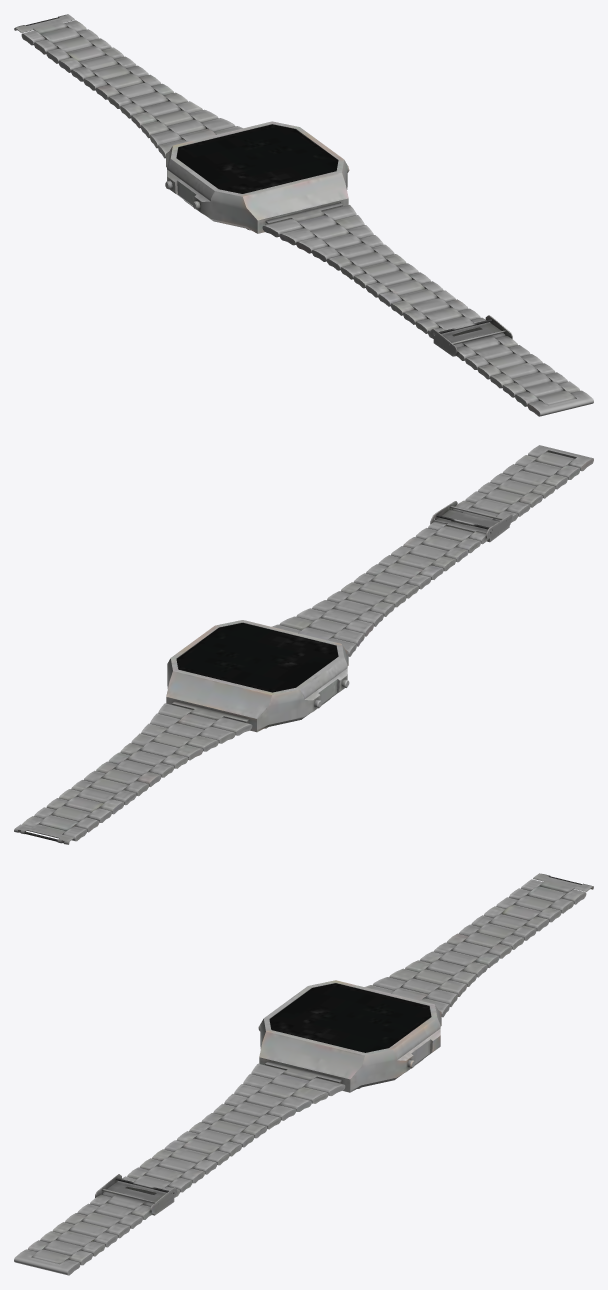
The model's file is digital_wrist_watch.glb.
The picture shows the model from 3 angles, top to bottom: view 1: azimuth 30°, elevation 25°; view 2: azimuth 150°, elevation 25°; view 3: azimuth 330°, elevation 25°; orthographic projection.
Parts seen in each view (by area): view 1: digital_wrist_watch; view 2: digital_wrist_watch; view 3: digital_wrist_watch.
Boxes of the visible parts, x1,y1,x2,y2 form: digital_wrist_watch: [14, 14, 593, 416]; digital_wrist_watch: [14, 445, 593, 844]; digital_wrist_watch: [14, 873, 593, 1275].
Bounding box in the file's own units: 0.0365 × 0.00835 × 0.2172.
2 materials, 2 textured.
